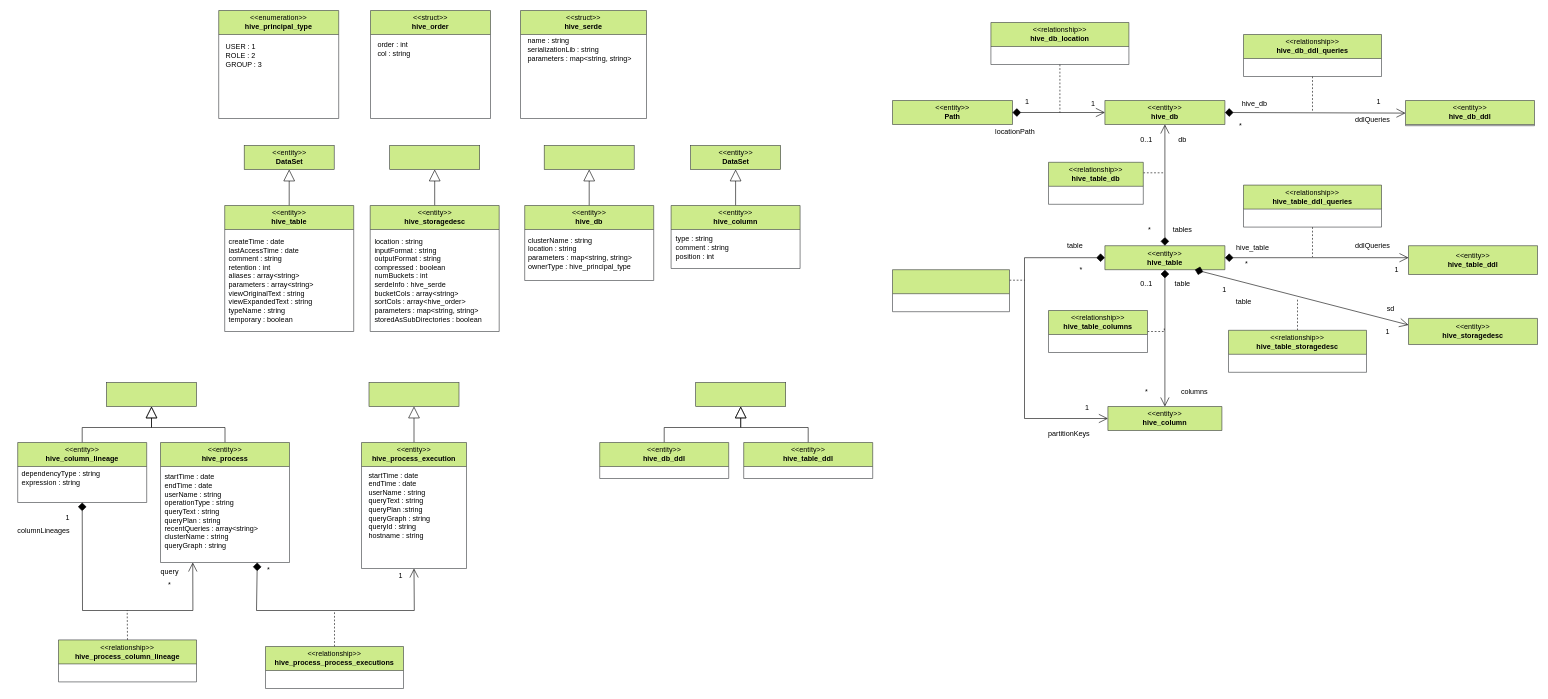
Some shapes in this 1548 by 699 pixel diagram are drawn without their labels. Each missing label, with the centre of its shape:
"<<entity>> Asset" belongs at (x=589, y=157).
"<<entity>> ddl" belongs at (x=740, y=394).
"<<entity>> Process" belongs at (x=151, y=394).
"<<entity>> ProcessExecution" belongs at (x=413, y=394).
"<<entity>> Referenceable" belongs at (x=434, y=157).
"<<relationship>> hive_table_partitionkeys" belongs at (x=951, y=290).
